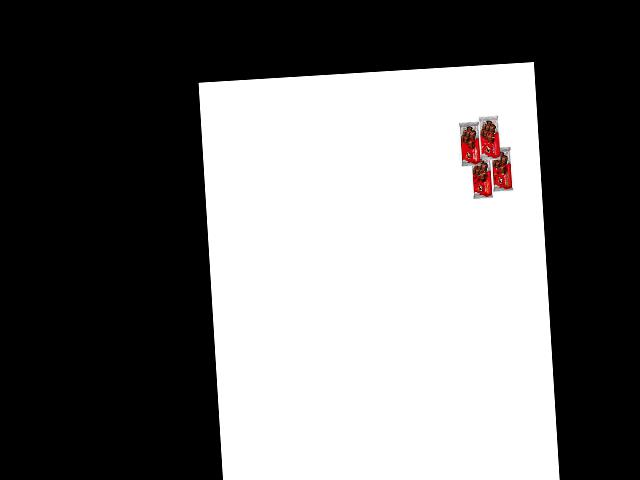chocolate: (487, 144, 515, 195)
